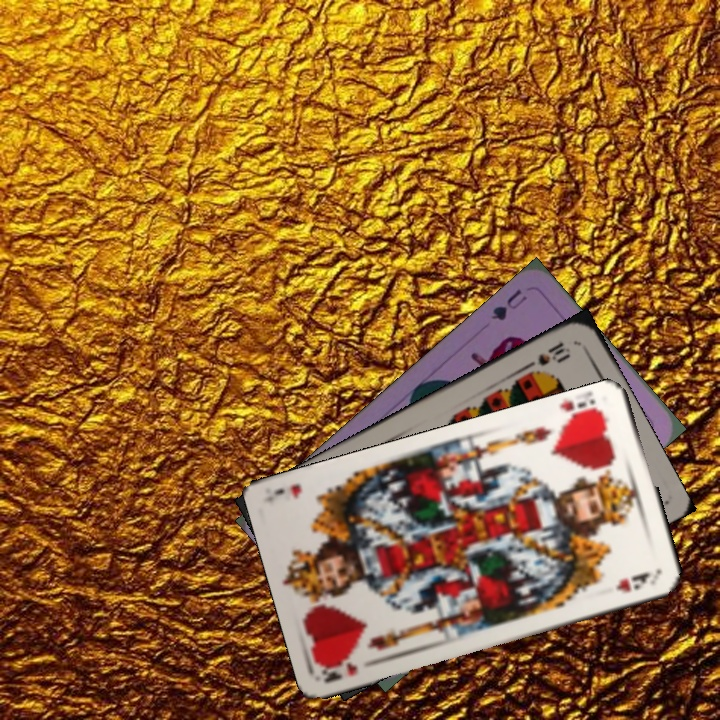GU: (487, 285, 530, 324)
HK: (556, 391, 606, 428), (318, 654, 360, 686)
S10: (521, 338, 573, 372)
